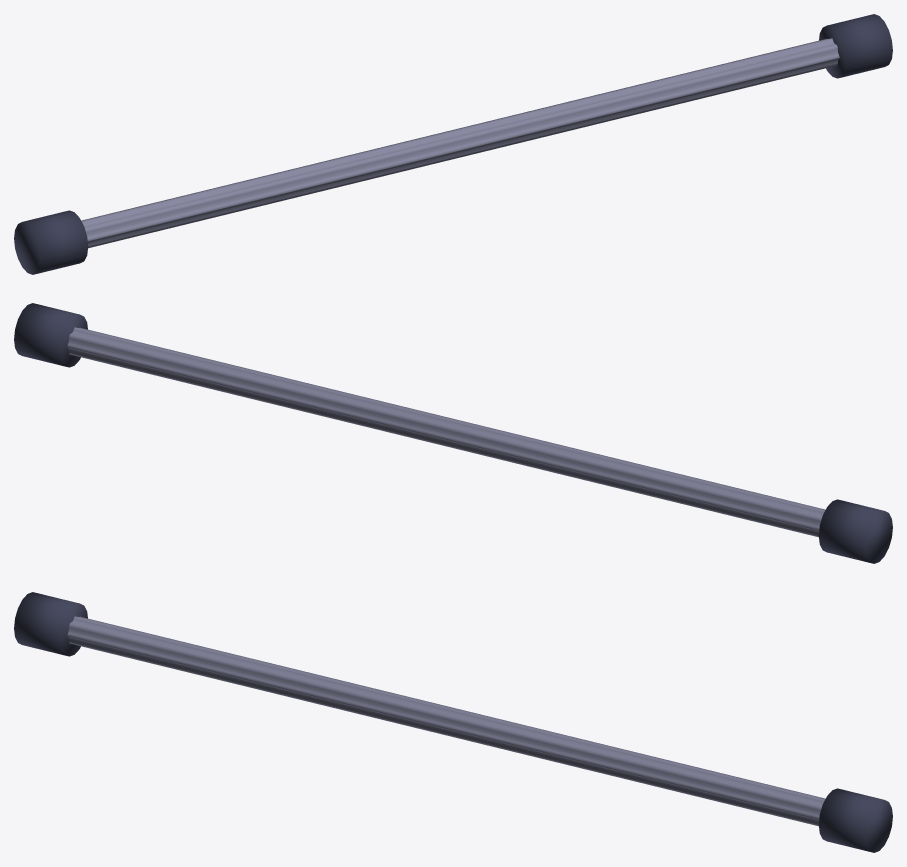
The model's file is pipe.fbx.
3 views of the same model, one above another, from view 1: azimuth 30°, elevation 25°; view 2: azimuth 150°, elevation 25°; view 3: azimuth 330°, elevation 25° (orthographic).
Parts seen in each view (by area): view 1: BézierCurve, Cylinder.001, Cylinder; view 2: BézierCurve, Cylinder.001, Cylinder; view 3: BézierCurve, Cylinder, Cylinder.001.
Boxes of the visible parts, x1,y1,x2,y2 form: BézierCurve: [81, 38, 839, 248]; Cylinder.001: [14, 210, 88, 274]; Cylinder: [819, 14, 892, 78]; BézierCurve: [67, 327, 825, 537]; Cylinder.001: [818, 499, 892, 563]; Cylinder: [14, 303, 87, 367]; BézierCurve: [67, 616, 825, 826]; Cylinder: [818, 788, 892, 852]; Cylinder.001: [14, 592, 87, 656].
Size of the model in its own units: 8.01 by 0.4429 by 0.4429.
